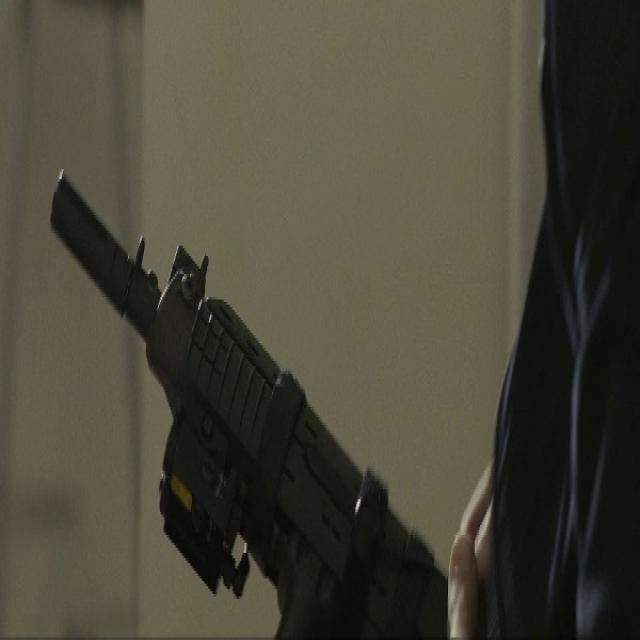rifle: (46, 161, 448, 640)
